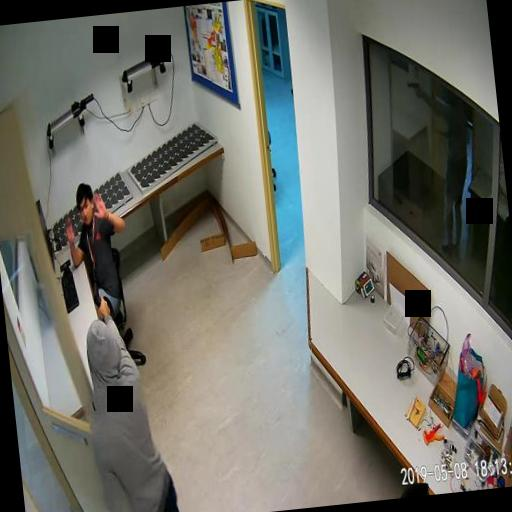Handgun: (90, 279, 109, 314)
